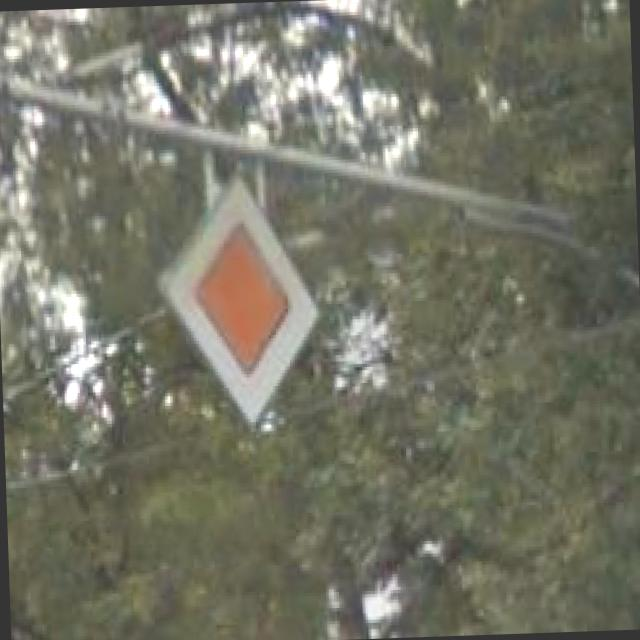Droga z pierwszenstwem: (154, 170, 328, 432)
